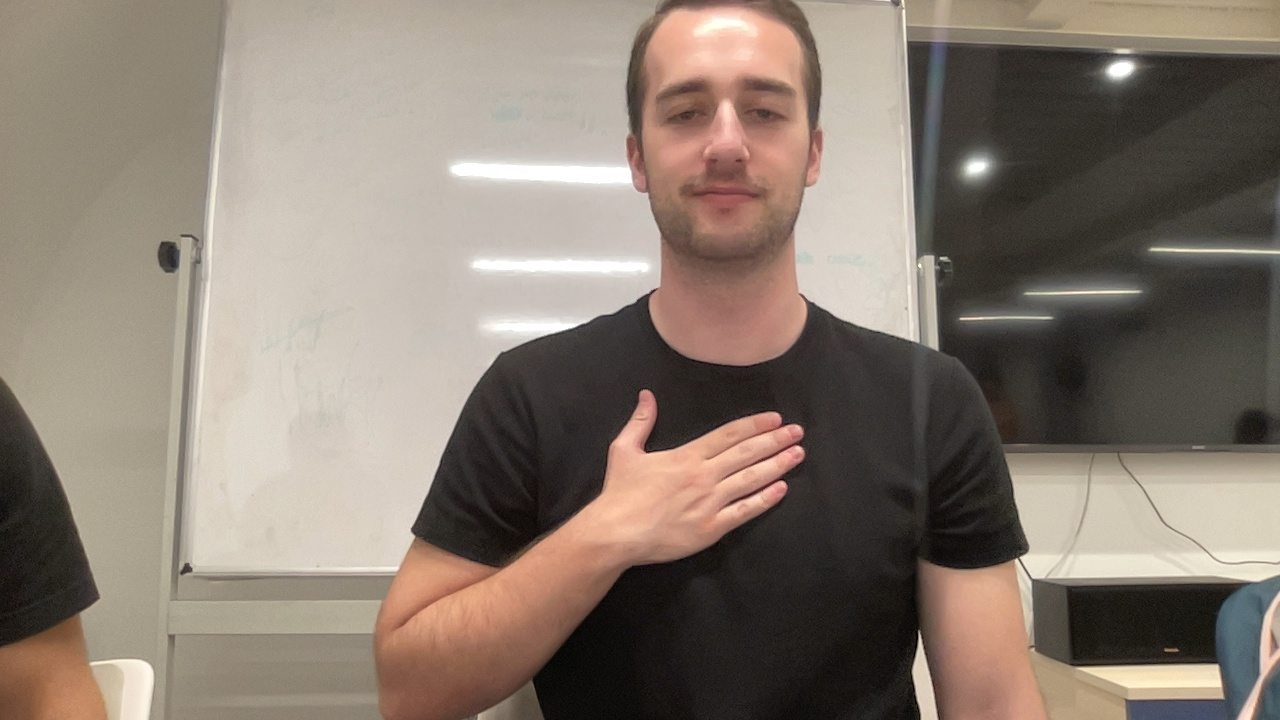Please: (366, 382, 812, 720)
